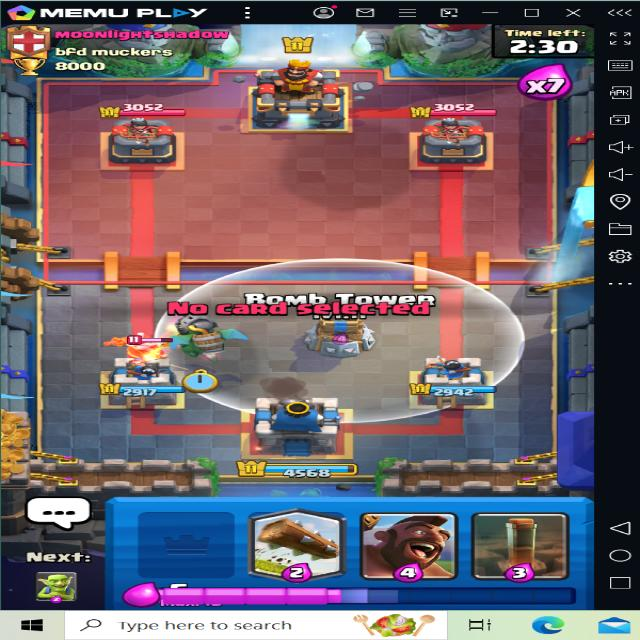monk: (108, 327, 182, 370)
